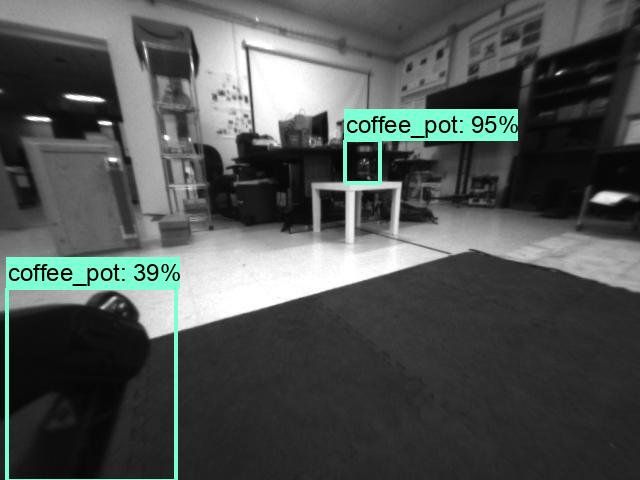coffee_pot: (346, 139, 379, 183)
